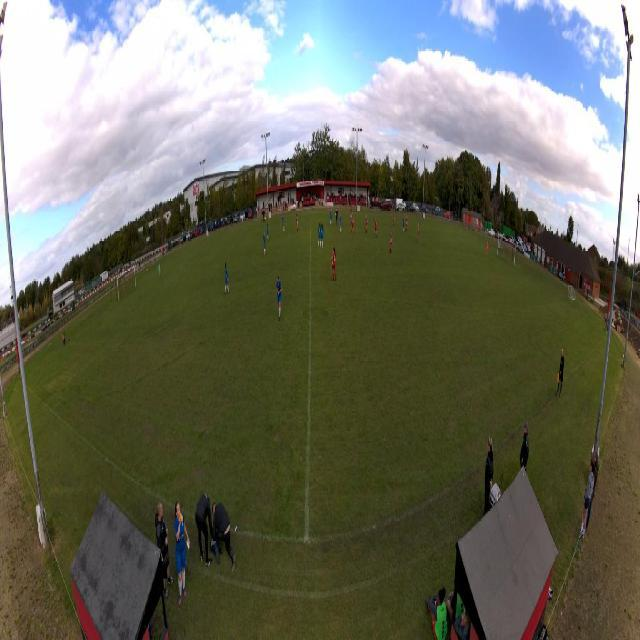ball: (335, 213, 337, 217)
player: (276, 273, 283, 324), (331, 246, 337, 283), (224, 261, 230, 295), (321, 223, 325, 250), (318, 222, 322, 249), (350, 215, 355, 236), (263, 231, 267, 257), (389, 230, 393, 255), (339, 213, 343, 235), (374, 217, 378, 239), (267, 219, 270, 241), (296, 213, 299, 234), (365, 214, 368, 235), (158, 262, 161, 282), (405, 215, 408, 234), (330, 208, 333, 226), (336, 208, 339, 226), (282, 214, 285, 231), (486, 240, 489, 257), (393, 213, 396, 229), (417, 223, 419, 244), (403, 215, 405, 234), (350, 209, 352, 225)
